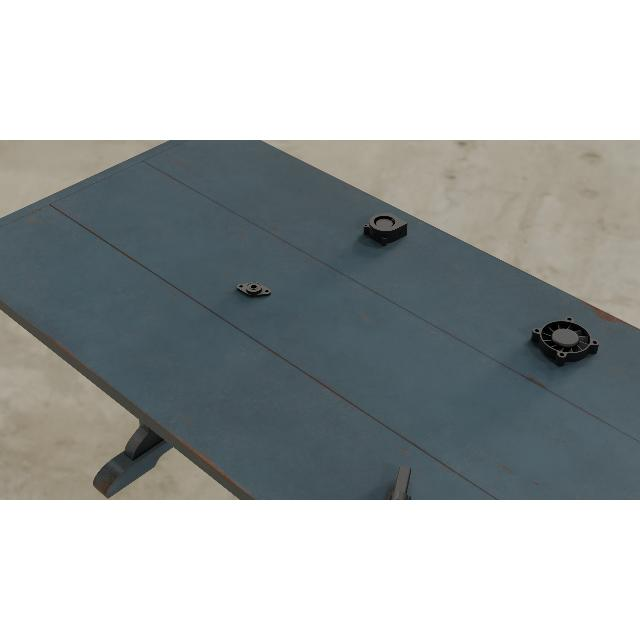Pieza1: (363, 460, 417, 500)
Pieza2: (234, 278, 274, 300)
Pieza3: (362, 210, 408, 248)
Pieza4: (528, 316, 602, 368)
